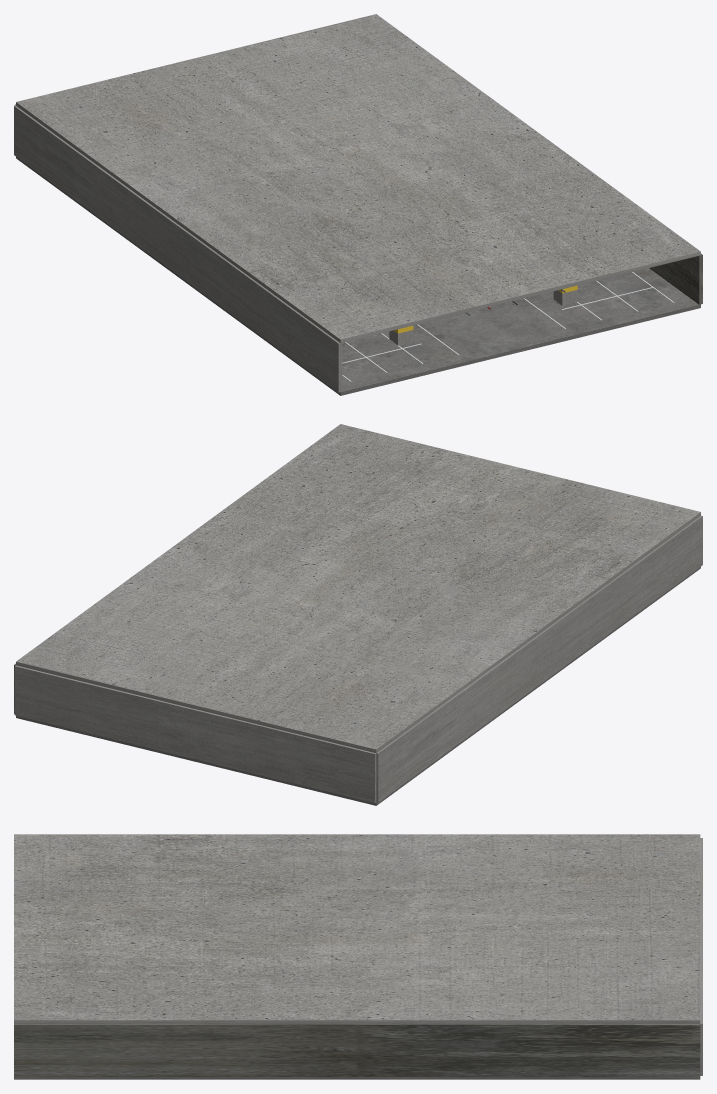
The model's file is 06_hydraulic_maintenance_region.glb.
3 views of the same model, one above another, from view 1: azimuth 30°, elevation 25°; view 2: azimuth 150°, elevation 25°; view 3: azimuth 270°, elevation 25° (orthographic). The views are drawn at different scales.
Visible parts, largest first — view 1: Concrete ceiling, Concrete floor, Left retaining wall, Right retaining wall; view 2: Concrete ceiling, Rear elevator wall, Left retaining wall, Concrete floor; view 3: Concrete ceiling, Right retaining wall, Concrete floor, Rear elevator wall.
Part boxes in pixels (x1,y1,x2,y2): Concrete ceiling: (16, 14, 700, 343); Concrete floor: (16, 157, 700, 395); Left retaining wall: (14, 105, 342, 392); Right retaining wall: (649, 253, 702, 304); Concrete ceiling: (16, 424, 700, 753); Rear elevator wall: (14, 665, 376, 802); Left retaining wall: (376, 515, 702, 802); Concrete floor: (16, 567, 700, 805); Concrete ceiling: (14, 834, 700, 1023); Right retaining wall: (14, 1024, 700, 1076); Concrete floor: (14, 1077, 700, 1079); Rear elevator wall: (700, 838, 702, 1075).
Bounding box in the file's own units: 25.26 × 3.73 × 39.15.
Materials: 15 (4 with a texture image).
